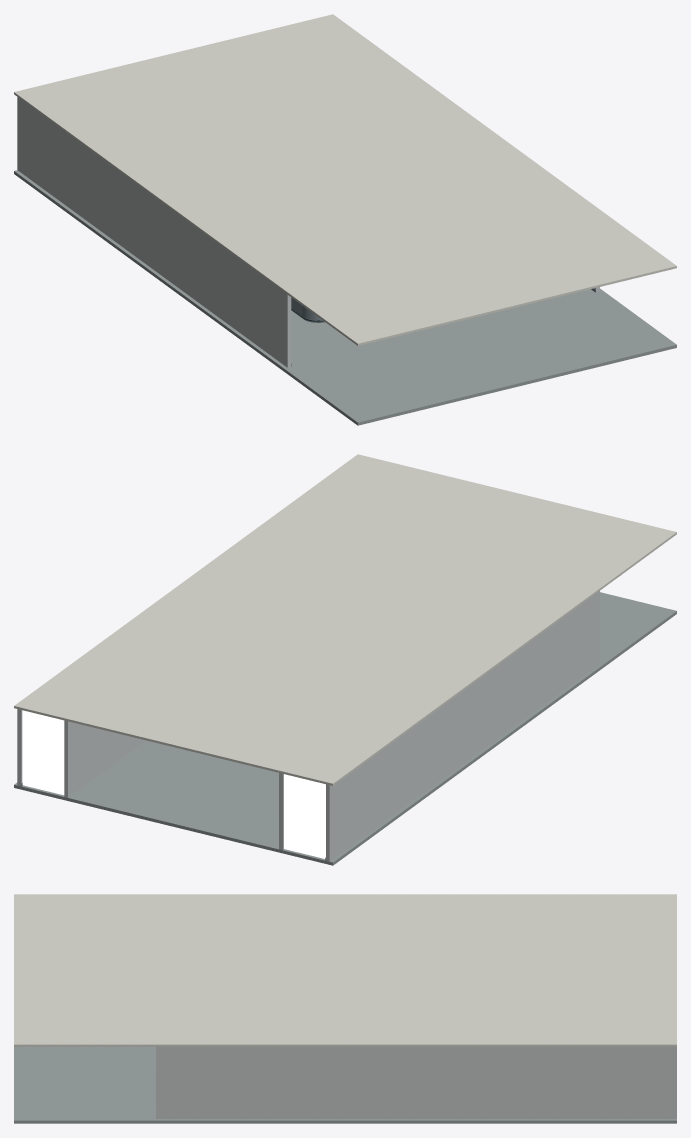
The model's file is nurse-station-silver-v2.glb.
3 views of the same model, one above another, from view 1: azimuth 30°, elevation 25°; view 2: azimuth 150°, elevation 25°; view 3: azimuth 270°, elevation 25° (orthographic). The views are drawn at different scales.
Parts seen in each view (by area): view 1: Ceiling, 地板, Architecture_SilverV1_wall; view 2: Ceiling, Architecture_SilverV1_wall, 地板, Architecture_SilverV1_sky; view 3: Ceiling, Architecture_SilverV1_wall, 地板.
Part boxes in pixels (box(x1,y1,x2,y2)): Ceiling: box(14, 14, 676, 345); 地板: box(14, 170, 676, 425); Architecture_SilverV1_wall: box(17, 97, 599, 367); Ceiling: box(14, 454, 676, 785); Architecture_SilverV1_wall: box(17, 591, 599, 861); 地板: box(14, 592, 676, 865); Architecture_SilverV1_sky: box(22, 710, 325, 858); Ceiling: box(14, 894, 676, 1046); Architecture_SilverV1_wall: box(156, 1046, 676, 1118); 地板: box(14, 1046, 676, 1123).
Size of the model in its own units: 15 by 3.68 by 28.
Materials: 29 (8 with a texture image).
